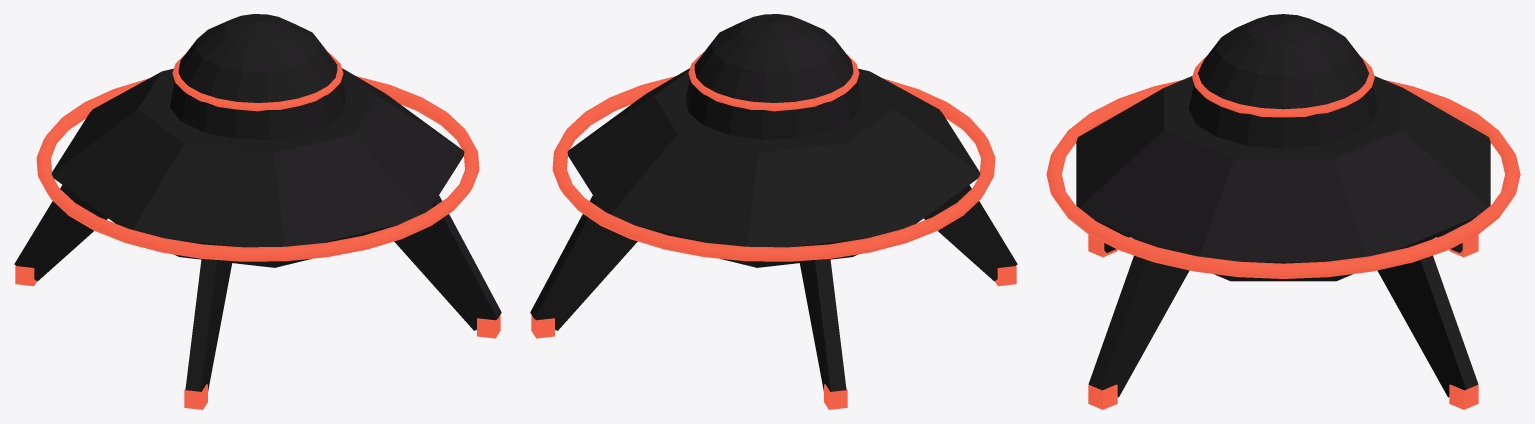
The model's file is sentry.glb.
3 views of the same model, side by side, from view 1: azimuth 30°, elevation 25°; view 2: azimuth 150°, elevation 25°; view 3: azimuth 270°, elevation 25° (orthographic). The views are drawn at different scales.
Visible parts, largest first — view 1: Body, Trim; view 2: Body, Trim; view 3: Body, Trim.
Boxes of the visible parts, <box> form: Body: <box>14,14,501,391</box>; Trim: <box>15,52,500,409</box>; Body: <box>530,14,1017,391</box>; Trim: <box>531,52,1016,409</box>; Body: <box>1076,14,1490,397</box>; Trim: <box>1046,56,1520,409</box>.
Size of the model in its own units: 2.75 by 1.95 by 2.75.
